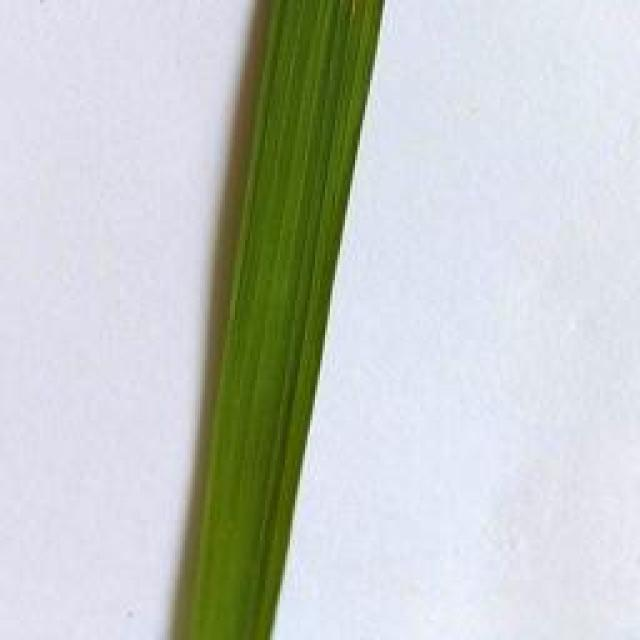Healthy-Plant: (174, 0, 387, 640)
